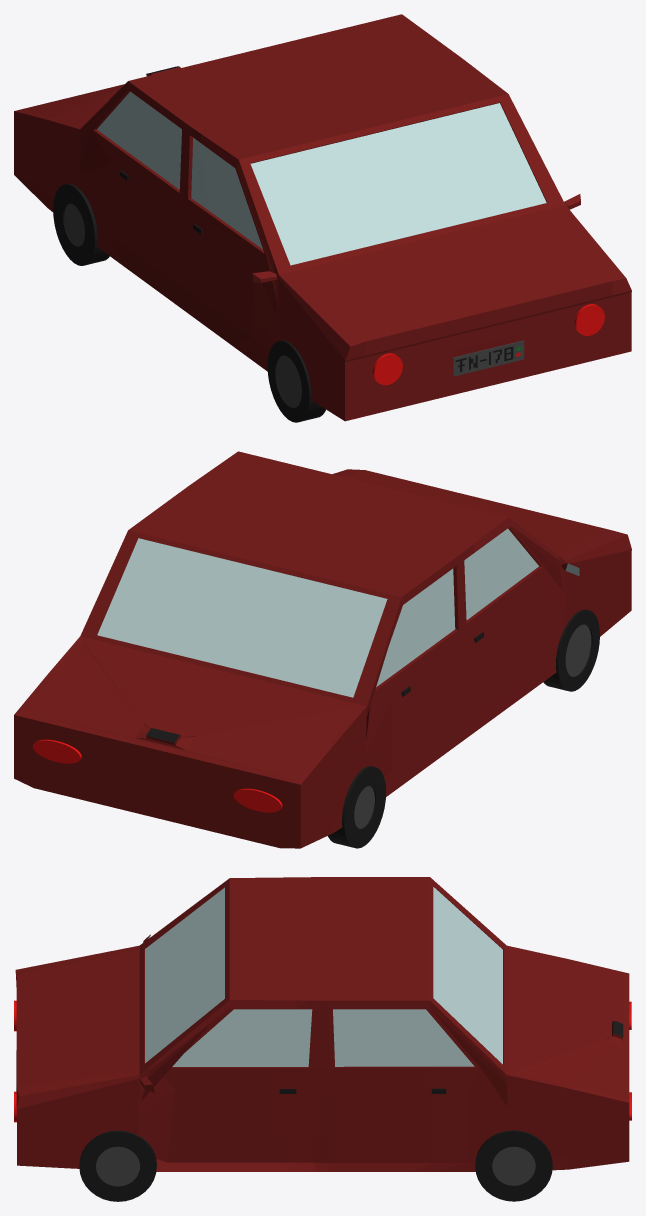
The model's file is car.fbx.
3 renders of one model, top to bottom at view 1: azimuth 30°, elevation 25°; view 2: azimuth 150°, elevation 25°; view 3: azimuth 270°, elevation 25°, orthographic. The views are drawn at different scales.
Visible parts, largest first — view 1: Cylinder.006; view 2: Cylinder.006; view 3: Cylinder.006.
Part boxes in pixels (left/top/right/bottom): Cylinder.006: left=14, top=14, right=631, bottom=422; Cylinder.006: left=14, top=451, right=631, bottom=848; Cylinder.006: left=14, top=877, right=631, bottom=1201.
Bounding box in the file's own units: 345 × 213 × 606.
